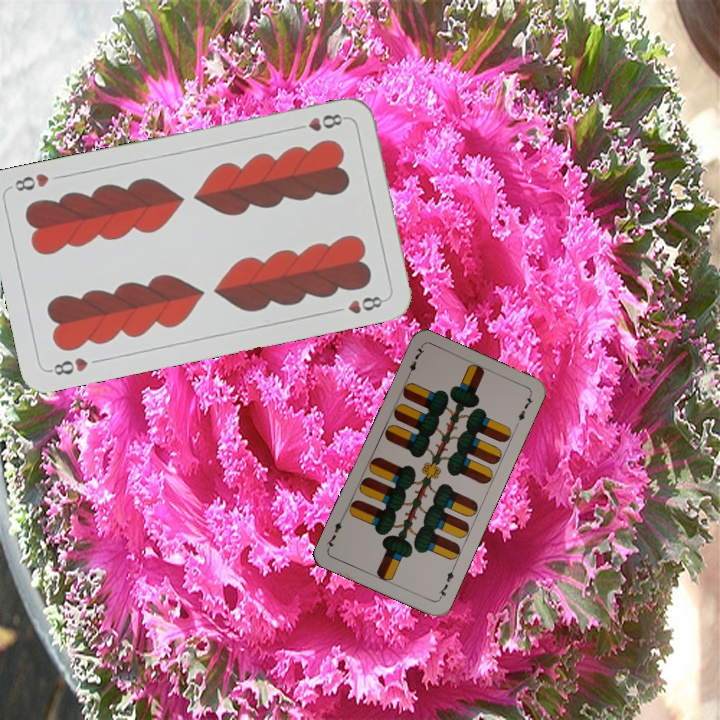E7: (402, 343, 427, 381), (435, 564, 457, 602)
H8: (290, 110, 349, 134), (45, 353, 91, 378)
